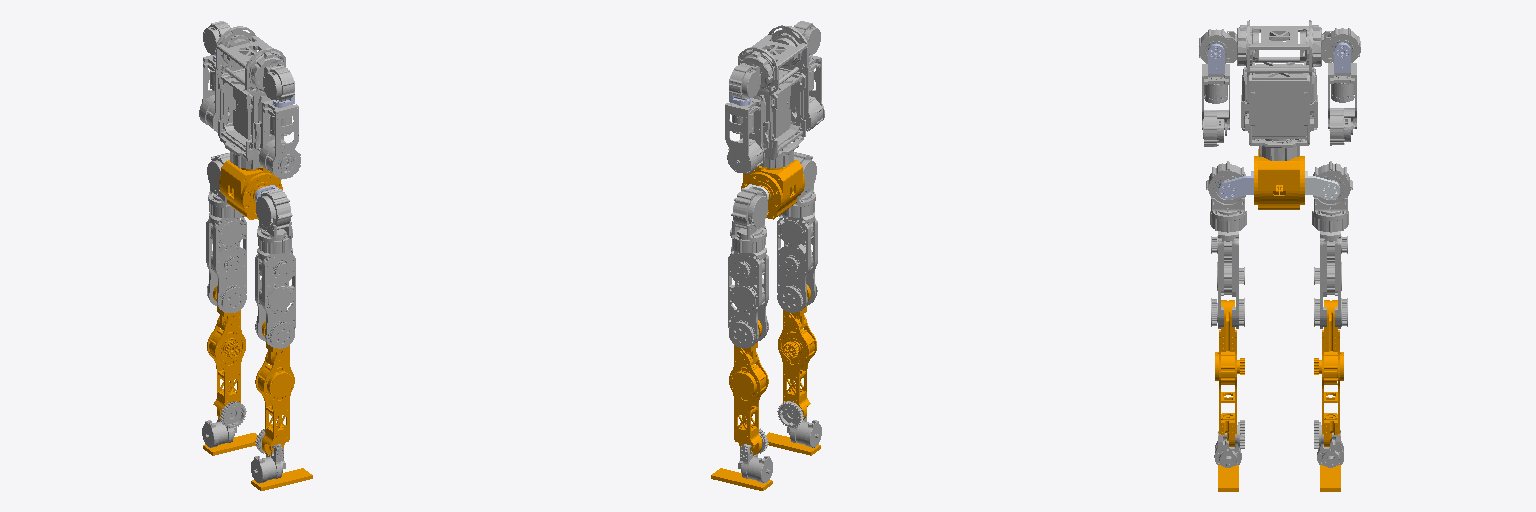
URDF robot description (E1_v2):
<?xml version="1.0" encoding="utf-8"?>
<robot name="E1_v2">

  <mujoco>
    <compiler meshdir="../meshes" discardvisual="false" />
  </mujoco>

<!--  <link name="world"></link>-->
<!--  <joint name="floating_base_joint" type="floating">-->
<!--    <parent link="world"/>-->
<!--    <child link="pelvis"/>-->
<!--  </joint>-->

  <link name="pelvis">
    <inertial>
      <origin xyz="0.0022609 0 0.071672" rpy="0 0 0" />
      <mass value="2.95" />
      <inertia ixx="0.00896434" ixy="0" ixz="0.00037558" iyy="0.00843088" iyz="0" izz="0.00739519" />
    </inertial>
    <visual>
      <origin xyz="0 0 0" rpy="0 0 0" />
      <geometry>
        <mesh filename="../meshes/pelvis.STL" />
      </geometry>
      <material name="">
        <color rgba="1 0.64706 0 1" />
      </material>
    </visual>
    <collision>
      <origin xyz="0 0 0.07" rpy="0 0 0" />
      <geometry>
        <!-- <mesh filename="../meshes/pelvis.STL" /> -->
        <box size="0.1 0.1 0.1 "/>
      </geometry>
    </collision>
  </link>
  <link name="left_hip_pitch_link">
    <inertial>
      <origin xyz="0.02004396 0.03015264 -0.00422561" rpy="0 0 0" />
      <mass value="0.18" />
      <inertia ixx="0.00015596" ixy="0.00003517" ixz="-0.0000057" iyy="0.00006808" iyz="-0.00002343" izz="0.00015626" />
    </inertial>
    <visual>
      <origin xyz="0 0 0" rpy="0 0 0" />
      <geometry>
        <mesh filename="../meshes/left_hip_pitch_link.STL" />
      </geometry>
      <material name="">
        <color rgba="0.89804 0.91765 0.92941 1" />
      </material>
    </visual>
    <!-- <collision>
      <origin xyz="0 0 0" rpy="0 0 0" />
      <geometry>
        <mesh filename="../meshes/left_hip_pitch_link.STL" />
      </geometry>
    </collision> -->
  </link>
  <joint name="left_hip_pitch_joint" type="revolute">
    <origin xyz="0 0.057 0.065" rpy="0 0 0" />
    <parent link="pelvis" />
    <child link="left_hip_pitch_link" />
    <axis xyz="0 1 0" />
    <limit lower="-2.7053" upper="2.7053" effort="60" velocity="20.42" />
  </joint>
  <link name="left_hip_roll_link">
    <inertial>
      <origin xyz="-0.00068638 -0.00005009 -0.03577346" rpy="0 0 0" />
      <mass value="1.665" />
      <inertia ixx="0.00409304" ixy="-0.00000113" ixz="-0.0000446" iyy="0.00387205" iyz="0.00001303" izz="0.00178225" />
    </inertial>
    <visual>
      <origin xyz="0 0 0" rpy="0 0 0" />
      <geometry>
        <mesh filename="../meshes/left_hip_roll_link.STL" />
      </geometry>
      <material name="">
        <color rgba="0.75294 0.75294 0.75294 1" />
      </material>
    </visual>
<!--    <collision>-->
<!--      <origin xyz="0 0 0" rpy="0 0 0" />-->
<!--      <geometry>-->
<!--        <mesh filename="../meshes/left_hip_roll_link.STL" />-->
<!--      </geometry>-->
<!--    </collision>-->
  </link>
  <joint name="left_hip_roll_joint" type="revolute">
    <origin xyz="0 0.065 -0.013057" rpy="0 0 0" />
    <parent link="left_hip_pitch_link" />
    <child link="left_hip_roll_link" />
    <axis xyz="1 0 0" />
    <limit lower="-0.5236" upper="3.1416" effort="60" velocity="20.42" />
  </joint>
  <link name="left_hip_yaw_link">
    <inertial>
      <origin xyz="0.00068457 -0.00007417 -0.12329502" rpy="0 0 0" />
      <mass value="2.055" />
      <inertia ixx="0.01379746" ixy="0.00000133" ixz="-0.00026842" iyy="0.01417279" iyz="0.00017674" izz="0.00233401" />
    </inertial>
    <visual>
      <origin xyz="0 0 0" rpy="0 0 0" />
      <geometry>
        <mesh filename="../meshes/left_hip_yaw_link.STL" />
      </geometry>
      <material name="">
        <color rgba="0.75294 0.75294 0.75294 1" />
      </material>
    </visual>
<!--    <collision>-->
<!--      <origin xyz="0 0 0" rpy="0 0 0" />-->
<!--      <geometry>-->
<!--        <mesh filename="../meshes/left_hip_yaw_link.STL" />-->
<!--      </geometry>-->
<!--    </collision>-->
  </link>
  <joint name="left_hip_yaw_joint" type="revolute">
    <origin xyz="0 0 -0.106" rpy="0 0 0" />
    <parent link="left_hip_roll_link" />
    <child link="left_hip_yaw_link" />
    <axis xyz="0 0 1" />
    <limit lower="-2.0944" upper="2.0944" effort="36" velocity="18.85" />
  </joint>
  <link name="left_knee_link">
    <inertial>
      <origin xyz="0.00371192 -0.00097881 -0.15642903" rpy="0 0 0" />
      <mass value="1.4" />
      <inertia ixx="0.01519613" ixy="0.00000263" ixz="0.00009311" iyy="0.01535099" iyz="0.00011171" izz="0.00083369" />
    </inertial>
    <visual>
      <origin xyz="0 0 0" rpy="0 0 0" />
      <geometry>
        <mesh filename="../meshes/left_knee_link.STL" />
      </geometry>
      <material name="">
        <color rgba="1 0.64706 0 1" />
      </material>
    </visual>
    <collision>
      <origin xyz="0 0 -0.16" rpy="0 0 0" />
      <geometry>
<!--        <mesh filename="../meshes/left_knee_link.STL" />-->
        <box size="0.03 0.03 0.26" />
      </geometry>
    </collision>
  </link>
  <joint name="left_knee_joint" type="revolute">
    <origin xyz="0 0 -0.228" rpy="0 0 0" />
    <parent link="left_hip_yaw_link" />
    <child link="left_knee_link" />
    <axis xyz="0 1 0" />
    <limit lower="0" upper="2.2689" effort="59.3" velocity="30.65" />
  </joint>
  <link name="left_ankle_pitch_link">
    <inertial>
      <origin xyz="-0.01090955 -0.00574639 -0.03708665" rpy="0 0 0" />
      <mass value="0.785" />
      <inertia ixx="0.00102458" ixy="-0.0000515" ixz="0.00018967" iyy="0.00111065" iyz="-0.00018149" izz="0.00065549" />
    </inertial>
    <visual>
      <origin xyz="0 0 0" rpy="0 0 0" />
      <geometry>
        <mesh filename="../meshes/left_ankle_pitch_link.STL" />
      </geometry>
      <material name="">
        <color rgba="0.75294 0.75294 0.75294 1" />
      </material>
    </visual>
<!--    <collision>-->
<!--      <origin xyz="0 0 0" rpy="0 0 0" />-->
<!--      <geometry>-->
<!--        <mesh filename="../meshes/left_ankle_pitch_link.STL" />-->
<!--      </geometry>-->
<!--    </collision>-->
  </link>
  <joint name="left_ankle_pitch_joint" type="revolute">
    <origin xyz="0 0 -0.32" rpy="0 0 0" />
    <parent link="left_knee_link" />
    <child link="left_ankle_pitch_link" />
    <axis xyz="0 1 0" />
    <limit lower="-0.5236" upper="0.5236" effort="59.3" velocity="30.65" />
  </joint>
  <link name="left_ankle_roll_link">
    <inertial>
      <origin xyz="0.01234943 -0.00006993 -0.03206542" rpy="0 0 0" />
      <mass value="0.275" />
      <inertia ixx="0.00012855" ixy="0.00000142" ixz="-0.00001592" iyy="0.00071645" iyz="-0.00000025" izz="0.00079232" />
    </inertial>
    <visual>
      <origin xyz="0.02 0 -0.04" rpy="0 0 0" />
      <geometry>
<!--        <mesh filename="../meshes/left_ankle_roll_link.STL" />-->
        <box size="0.15 0.05 0.01" />
      </geometry>
      <material name="">
        <color rgba="1 0.64706 0 1" />
      </material>
    </visual>
    <collision>
      <origin xyz="0.02 0 -0.04" rpy="0 0 0" />
      <geometry>
        <box size="0.15 0.05 0.01" />
      </geometry>
    </collision>
    <collision>
      <origin xyz=" 0.107 0.035 -0.045" rpy="0 0 0"/>
      <geometry>
        <sphere radius="0.005"/>
      </geometry>
    </collision>
    <collision>
      <origin xyz="0.107 -0.035 -0.045" rpy="0 0 0"/>
      <geometry>
        <sphere radius="0.005"/>
      </geometry>
    </collision>
    <collision>
      <origin xyz="-0.073 0.035 -0.045" rpy="0 0 0"/>
      <geometry>
        <sphere radius="0.005"/>
      </geometry>
    </collision>
    <collision>
      <origin xyz="-0.073 -0.035 -0.045" rpy="0 0 0"/>
      <geometry>
        <sphere radius="0.005"/>
      </geometry>
    </collision>
<!--    <collision>-->
<!--      <origin xyz="0 0 0" rpy="0 0 0" />-->
<!--      <geometry>-->
<!--        <mesh filename="../meshes/left_ankle_roll_link.STL" />-->
<!--      </geometry>-->
<!--    </collision>-->
  </link>
  <joint name="left_ankle_roll_joint" type="revolute">
    <origin xyz="0 0 -0.06" rpy="0 0 0" />
    <parent link="left_ankle_pitch_link" />
    <child link="left_ankle_roll_link" />
    <axis xyz="1 0 0" />
    <limit lower="-1.5708" upper="1.5708" effort="14" velocity="32.99" />
  </joint>
  <link name="right_hip_pitch_link">
    <inertial>
      <origin xyz="0.02004396 -0.03015264 -0.00422561" rpy="0 0 0" />
      <mass value="0.18" />
      <inertia ixx="0.00015596" ixy="-0.00003517" ixz="-0.0000057" iyy="0.00006808" iyz="0.00002343" izz="0.00015626" />
    </inertial>
    <visual>
      <origin xyz="0 0 0" rpy="0 0 0" />
      <geometry>
        <mesh filename="../meshes/right_hip_pitch_link.STL" />
      </geometry>
      <material name="">
        <color rgba="0.79216 0.81961 0.93333 1" />
      </material>
    </visual>
    <!-- <collision>
      <origin xyz="0 0 0" rpy="0 0 0" />
      <geometry>
        <mesh filename="../meshes/right_hip_pitch_link.STL" />
      </geometry>
    </collision> -->
  </link>
  <joint name="right_hip_pitch_joint" type="revolute">
    <origin xyz="0 -0.057 0.065" rpy="0 0 0" />
    <parent link="pelvis" />
    <child link="right_hip_pitch_link" />
    <axis xyz="0 1 0" />
    <limit lower="-2.7053" upper="2.7053" effort="60" velocity="20.42" />
  </joint>
  <link name="right_hip_roll_link">
    <inertial>
      <origin xyz="-0.00068634 0.0000501 -0.03577353" rpy="0 0 0" />
      <mass value="1.665" />
      <inertia ixx="0.00409303" ixy="-0.00000113" ixz="-0.00004459" iyy="0.00387204" iyz="-0.00001303" izz="0.00178225" />
    </inertial>
    <visual>
      <origin xyz="0 0 0" rpy="0 0 0" />
      <geometry>
        <mesh filename="../meshes/right_hip_roll_link.STL" />
      </geometry>
      <material name="">
        <color rgba="0.75294 0.75294 0.75294 1" />
      </material>
    </visual>
<!--    <collision>-->
<!--      <origin xyz="0 0 0" rpy="0 0 0" />-->
<!--      <geometry>-->
<!--        <mesh filename="../meshes/right_hip_roll_link.STL" />-->
<!--      </geometry>-->
<!--    </collision>-->
  </link>
  <joint name="right_hip_roll_joint" type="revolute">
    <origin xyz="0 -0.065 -0.013057" rpy="0 0 0" />
    <parent link="right_hip_pitch_link" />
    <child link="right_hip_roll_link" />
    <axis xyz="1 0 0" />
    <limit lower="-3.1416" upper="0.5236" effort="60" velocity="20.42" />
  </joint>
  <link name="right_hip_yaw_link">
    <inertial>
      <origin xyz="0.00068454 0.00007420 -0.12329501" rpy="0 0 0" />
      <mass value="2.0055" />
      <inertia ixx="0.01379746" ixy="-0.00000133" ixz="-0.00026843" iyy="0.01417279" iyz="-0.00017674" izz="0.00233401" />
    </inertial>
    <visual>
      <origin xyz="0 0 0" rpy="0 0 0" />
      <geometry>
        <mesh filename="../meshes/right_hip_yaw_link.STL" />
      </geometry>
      <material name="">
        <color rgba="0.75294 0.75294 0.75294 1" />
      </material>
    </visual>
<!--    <collision>-->
<!--      <origin xyz="0 0 0" rpy="0 0 0" />-->
<!--      <geometry>-->
<!--        <mesh filename="../meshes/right_hip_yaw_link.STL" />-->
<!--      </geometry>-->
<!--    </collision>-->
  </link>
  <joint name="right_hip_yaw_joint" type="revolute">
    <origin xyz="0 0 -0.106" rpy="0 0 0" />
    <parent link="right_hip_roll_link" />
    <child link="right_hip_yaw_link" />
    <axis xyz="0 0 1" />
    <limit lower="-2.0944" upper="2.0944" effort="36" velocity="18.85" />
  </joint>
  <link name="right_knee_link">
    <inertial>
      <origin xyz="0.00371191 0.0009788 -0.15642891" rpy="0 0 0" />
      <mass value="1.4" />
      <inertia ixx="0.01519613" ixy="-0.00000263" ixz="0.0000931" iyy="0.01535099" iyz="-0.00011171" izz="0.00083369" />
    </inertial>
    <visual>
      <origin xyz="0 0 0" rpy="0 0 0" />
      <geometry>
        <mesh filename="../meshes/right_knee_link.STL" />
      </geometry>
      <material name="">
        <color rgba="1 0.64706 0 1" />
      </material>
    </visual>
    <collision>
      <origin xyz="0 0 -0.16" rpy="0 0 0" />
      <geometry>
<!--        <mesh filename="../meshes/right_knee_link.STL" />-->
        <box size="0.03 0.03 0.26" />
      </geometry>
    </collision>
  </link>
  <joint name="right_knee_joint" type="revolute">
    <origin xyz="0 0 -0.228" rpy="0 0 0" />
    <parent link="right_hip_yaw_link" />
    <child link="right_knee_link" />
    <axis xyz="0 1 0" />
    <limit lower="0" upper="2.2689" effort="59.3" velocity="30.65" />
  </joint>
  <link name="right_ankle_pitch_link">
    <inertial>
      <origin xyz="-0.01090955 0.00574639 -0.03708666" rpy="0 0 0" />
      <mass value="0.785" />
      <inertia ixx="0.00102458" ixy="0.0000515" ixz="0.00018967" iyy="0.00111065" iyz="0.00018149" izz="0.00065549" />
    </inertial>
    <visual>
      <origin xyz="0 0 0" rpy="0 0 0" />
      <geometry>
        <mesh filename="../meshes/right_ankle_pitch_link.STL" />
      </geometry>
      <material name="">
        <color rgba="0.75294 0.75294 0.75294 1" />
      </material>
    </visual>
<!--    <collision>-->
<!--      <origin xyz="0 0 0" rpy="0 0 0" />-->
<!--      <geometry>-->
<!--        <mesh filename="../meshes/right_ankle_pitch_link.STL" />-->
<!--      </geometry>-->
<!--    </collision>-->
  </link>
  <joint name="right_ankle_pitch_joint" type="revolute">
    <origin xyz="0 0 -0.32" rpy="0 0 0" />
    <parent link="right_knee_link" />
    <child link="right_ankle_pitch_link" />
    <axis xyz="0 1 0" />
    <limit lower="-0.5236" upper="0.5236" effort="59.3" velocity="30.65" />
  </joint>
  <link name="right_ankle_roll_link">
    <inertial>
      <origin xyz="0.01234943 0.00006993 -0.03206542" rpy="0 0 0" />
      <mass value="0.275" />
      <inertia ixx="0.00012855" ixy="-0.00000142" ixz="-0.00001592" iyy="0.00071645" iyz="0.00000025" izz="0.00079232" />
    </inertial>
    <visual>
      <origin xyz="0.02 0 -0.04" rpy="0 0 0" />
      <geometry>
<!--        <mesh filename="../meshes/right_ankle_roll_link.STL" />-->
        <box size="0.15 0.05 0.01" />
      </geometry>
      <material name="">
        <color rgba="1 0.64706 0 1" />
      </material>
    </visual>
    <collision>
      <origin xyz="0.02 0 -0.04" rpy="0 0 0" />
      <geometry>
        <box size="0.15 0.05 0.01" />
      </geometry>
    </collision>
    <collision>
      <origin xyz=" 0.107 0.035 -0.045" rpy="0 0 0"/>
      <geometry>
        <sphere radius="0.005"/>
      </geometry>
    </collision>
    <collision>
      <origin xyz="0.107 -0.035 -0.045" rpy="0 0 0"/>
      <geometry>
        <sphere radius="0.005"/>
      </geometry>
    </collision>
    <collision>
      <origin xyz="-0.073 0.035 -0.045" rpy="0 0 0"/>
      <geometry>
        <sphere radius="0.005"/>
      </geometry>
    </collision>
    <collision>
      <origin xyz="-0.073 -0.035 -0.045" rpy="0 0 0"/>
      <geometry>
        <sphere radius="0.005"/>
      </geometry>
    </collision>
<!--    <collision>-->
<!--      <origin xyz="0 0 0" rpy="0 0 0" />-->
<!--      <geometry>-->
<!--        <mesh filename="../meshes/right_ankle_roll_link.STL" />-->
<!--      </geometry>-->
<!--    </collision>-->
  </link>
  <joint name="right_ankle_roll_joint" type="revolute">
    <origin xyz="0 0 -0.06" rpy="0 0 0" />
    <parent link="right_ankle_pitch_link" />
    <child link="right_ankle_roll_link" />
    <axis xyz="1 0 0" />
    <limit lower="-1.5708" upper="1.5708" effort="14" velocity="32.99" />
  </joint>
  <link name="torso_link">
    <inertial>
      <origin xyz="0.00998693 -0.00042796 0.15564752" rpy="0 0 0" />
      <mass value="7" />
      <inertia ixx="0.05955861" ixy="0.00003178" ixz="-0.00097234" iyy="0.04525784" iyz="0.00009215" izz="0.02377237" />
    </inertial>
    <visual>
      <origin xyz="0 0 0" rpy="0 0 0" />
      <geometry>
        <mesh filename="../meshes/torso_link.STL" />
      </geometry>
      <material name="">
        <color rgba="0.75294 0.75294 0.75294 1" />
      </material>
    </visual>
    <!-- <collision>
      <origin xyz="0 0 0" rpy="0 0 0" />
      <geometry>
        <mesh filename="../meshes/torso_link.STL" />
      </geometry>
    </collision> -->
    <collision>
      <origin xyz="0 0 0.17" rpy="0 0 0"/>
      <geometry>
          <box size="0.11 0.15 0.26"/>
      </geometry>
    </collision>
  </link>
  <joint name="waist_yaw_joint" type="revolute">
    <origin xyz="0 0 0.135" rpy="0 0 0" />
    <parent link="pelvis" />
    <child link="torso_link" />
    <axis xyz="0 0 1" />
    <limit lower="-1.5708" upper="1.5708" effort="60" velocity="18.85" />
  </joint>
  <link name="left_shoulder_pitch_link">
    <inertial>
      <origin xyz="-0.0029314 0.04198695 -0.00000295" rpy="0 0 0" />
      <mass value="0.7" />
      <inertia ixx="0.00083238" ixy="-0.00001852" ixz="0.00000001" iyy="0.00050157" iyz="-0.00000005" izz="0.00069977" />
    </inertial>
    <visual>
      <origin xyz="0 0 0" rpy="0 0 0" />
      <geometry>
        <mesh filename="../meshes/left_shoulder_pitch_link.STL" />
      </geometry>
      <material name="">
        <color rgba="0.75294 0.75294 0.75294 1" />
      </material>
    </visual>
<!--    <collision>-->
<!--      <origin xyz="0 0 0" rpy="0 0 0" />-->
<!--      <geometry>-->
<!--        <mesh filename="../meshes/left_shoulder_pitch_link.STL" />-->
<!--      </geometry>-->
<!--    </collision>-->
  </link>
  <joint name="left_shoulder_pitch_joint" type="revolute">
    <origin xyz="0 0.0985 0.28" rpy="0 0 0" />
    <parent link="torso_link" />
    <child link="left_shoulder_pitch_link" />
    <axis xyz="0 1 0" />
    <limit lower="-1.0472" upper="2.7925" effort="36" velocity="18.85" />
  </joint>
  <link name="left_shoulder_roll_link">
    <inertial>
      <origin xyz="0.01778196 0 -0.02897233" rpy="0 0 0" />
      <mass value="0.15" />
      <inertia ixx="0.00009446" ixy="0" ixz="0.0000186" iyy="0.00009367" iyz="0" izz="0.00004103" />
    </inertial>
    <visual>
      <origin xyz="0 0 0" rpy="0 0 0" />
      <geometry>
        <mesh filename="../meshes/left_shoulder_roll_link.STL" />
      </geometry>
      <material name="">
        <color rgba="0.79216 0.81961 0.93333 1" />
      </material>
    </visual>
<!--    <collision>-->
<!--      <origin xyz="0 0 0" rpy="0 0 0" />-->
<!--      <geometry>-->
<!--        <mesh filename="../meshes/left_shoulder_roll_link.STL" />-->
<!--      </geometry>-->
<!--    </collision>-->
  </link>
  <joint name="left_shoulder_roll_joint" type="revolute">
    <origin xyz="0 0.052 0" rpy="0 0 0" />
    <parent link="left_shoulder_pitch_link" />
    <child link="left_shoulder_roll_link" />
    <axis xyz="1 0 0" />
    <limit lower="-0.1745" upper="2.9671" effort="36" velocity="18.85" />
  </joint>
  <link name="left_shoulder_yaw_link">
    <inertial>
      <origin xyz="-0.00319289 -0.000094 -0.08859524" rpy="0 0 0" />
      <mass value="1.4" />
      <inertia ixx="0.00576935" ixy="-0.00005705" ixz="0.00024192" iyy="0.00571289" iyz="0.00007066" izz="0.00129506" />
    </inertial>
    <visual>
      <origin xyz="0 0 0" rpy="0 0 0" />
      <geometry>
        <mesh filename="../meshes/left_shoulder_yaw_link.STL" />
      </geometry>
      <material name="">
        <color rgba="0.75294 0.75294 0.75294 1" />
      </material>
    </visual>
<!--    <collision>-->
<!--      <origin xyz="0 0 0" rpy="0 0 0" />-->
<!--      <geometry>-->
<!--        <mesh filename="../meshes/left_shoulder_yaw_link.STL" />-->
<!--      </geometry>-->
<!--    </collision>-->
  </link>
  <joint name="left_shoulder_yaw_joint" type="revolute">
    <origin xyz="0 0 -0.057" rpy="0 0 0" />
    <parent link="left_shoulder_roll_link" />
    <child link="left_shoulder_yaw_link" />
    <axis xyz="0 0 1" />
    <limit lower="-2.618" upper="2.618" effort="14" velocity="32.99" />
  </joint>

  <link name="right_shoulder_pitch_link">
    <inertial>
      <origin xyz="-0.0029314 -0.04229409 -0.00218097" rpy="0 0 0" />
      <mass value="0.7" />
      <inertia ixx="0.00083756" ixy="0.00002175" ixz="0.0000013" iyy="0.00050253" iyz="0.00001501" izz="0.00070399" />
    </inertial>
    <visual>
      <origin xyz="0 0 0" rpy="0 0 0" />
      <geometry>
        <mesh filename="../meshes/right_shoulder_pitch_link.STL" />
      </geometry>
      <material name="">
        <color rgba="0.75294 0.75294 0.75294 1" />
      </material>
    </visual>
<!--    <collision>-->
<!--      <origin xyz="0 0 0" rpy="0 0 0" />-->
<!--      <geometry>-->
<!--        <mesh filename="../meshes/right_shoulder_pitch_link.STL" />-->
<!--      </geometry>-->
<!--    </collision>-->
  </link>
  <joint name="right_shoulder_pitch_joint" type="revolute">
    <origin xyz="0 -0.0985 0.28" rpy="0 0 0" />
    <parent link="torso_link" />
    <child link="right_shoulder_pitch_link" />
    <axis xyz="0 1 0" />
    <limit lower="-1.0472" upper="2.7925" effort="36" velocity="18.85" />
  </joint>
  <link name="right_shoulder_roll_link">
    <inertial>
      <origin xyz="0.01778196 0 -0.02897233" rpy="0 0 0" />
      <mass value="0.15" />
      <inertia ixx="0.00009446" ixy="0" ixz="0.0000186" iyy="0.00009367" iyz="0" izz="0.00004103" />
    </inertial>
    <visual>
      <origin xyz="0 0 0" rpy="0 0 0" />
      <geometry>
        <mesh filename="../meshes/right_shoulder_roll_link.STL" />
      </geometry>
      <material name="">
        <color rgba="0.79216 0.81961 0.93333 1" />
      </material>
    </visual>
<!--    <collision>-->
<!--      <origin xyz="0 0 0" rpy="0 0 0" />-->
<!--      <geometry>-->
<!--        <mesh filename="../meshes/right_shoulder_roll_link.STL" />-->
<!--      </geometry>-->
<!--    </collision>-->
  </link>
  <joint name="right_shoulder_roll_joint" type="revolute">
    <origin xyz="0 -0.051904 -0.0028082" rpy="0 0 0" />
    <parent link="right_shoulder_pitch_link" />
    <child link="right_shoulder_roll_link" />
    <axis xyz="1 0 0" />
    <limit lower="-2.9671" upper="0.1745" effort="36" velocity="18.85" />
  </joint>
  <link name="right_shoulder_yaw_link">
    <inertial>
      <origin xyz="-0.00319289 -0.000094 -0.08859524" rpy="0 0 0" />
      <mass value="1.4" />
      <inertia ixx="0.00576935" ixy="0.00005705" ixz="-0.00024192" iyy="0.00571289" iyz="-0.00007066" izz="0.00129506" />
    </inertial>
    <visual>
      <origin xyz="0 0 0" rpy="0 0 0" />
      <geometry>
        <mesh filename="../meshes/right_shoulder_yaw_link.STL" />
      </geometry>
      <material name="">
        <color rgba="0.75294 0.75294 0.75294 1" />
      </material>
    </visual>
<!--    <collision>-->
<!--      <origin xyz="0 0 0" rpy="0 0 0" />-->
<!--      <geometry>-->
<!--        <mesh filename="../meshes/right_shoulder_yaw_link.STL" />-->
<!--      </geometry>-->
<!--    </collision>-->
  </link>
  <joint name="right_shoulder_yaw_joint" type="revolute">
    <origin xyz="0 0 -0.057" rpy="0 0 0" />
    <parent link="right_shoulder_roll_link" />
    <child link="right_shoulder_yaw_link" />
    <axis xyz="0 0 1" />
    <limit lower="-2.618" upper="2.618" effort="14" velocity="32.99" />
  </joint>

</robot>

--- Render facts (derived) ---
3 views of the same robot in one strip: view 1: azimuth 30°, elevation 25°; view 2: azimuth 150°, elevation 25°; view 3: azimuth 270°, elevation 25° (orthographic).
Model E1_v2 with 20 links and 19 joints (19 revolute), rooted at pelvis, posed every joint at zero.
Links seen in each view (by area): view 1: torso_link, right_hip_yaw_link, left_hip_yaw_link, right_knee_link, left_knee_link, right_shoulder_yaw_link, right_hip_roll_link, pelvis, left_ankle_pitch_link, left_shoulder_yaw_link, left_hip_roll_link, right_ankle_pitch_link (+3 smaller); view 2: torso_link, left_hip_yaw_link, right_hip_yaw_link, left_knee_link, right_knee_link, left_shoulder_yaw_link, left_hip_roll_link, pelvis, right_ankle_pitch_link, right_shoulder_yaw_link, right_hip_roll_link, left_ankle_pitch_link (+3 smaller); view 3: torso_link, pelvis, left_hip_yaw_link, right_hip_yaw_link, right_knee_link, left_knee_link, left_shoulder_yaw_link, left_hip_roll_link, right_hip_roll_link, right_shoulder_yaw_link, left_shoulder_pitch_link, right_ankle_pitch_link (+6 smaller).
Boxes of the visible links, x1,y1,x2,y2 form: torso_link: (215,26,285,169); right_hip_yaw_link: (255,248,295,348); left_hip_yaw_link: (206,213,246,312); right_knee_link: (255,321,294,455); left_knee_link: (207,284,245,419); right_shoulder_yaw_link: (259,100,300,179); right_hip_roll_link: (256,189,292,253); pelvis: (219,160,282,219); left_ankle_pitch_link: (202,401,246,447); left_shoulder_yaw_link: (199,55,222,132); left_hip_roll_link: (207,153,240,218); right_ankle_pitch_link: (251,429,285,483); torso_link: (738,25,808,168); left_hip_yaw_link: (728,247,768,348); right_hip_yaw_link: (777,212,817,312); left_knee_link: (729,320,768,455); right_knee_link: (778,284,816,419); left_shoulder_yaw_link: (725,98,764,174); left_hip_roll_link: (730,188,767,253); pelvis: (741,160,804,219); right_ankle_pitch_link: (777,401,821,447); right_shoulder_yaw_link: (801,55,824,131); right_hip_roll_link: (782,152,816,217); left_ankle_pitch_link: (738,428,772,483); torso_link: (1237,20,1321,160); pelvis: (1254,149,1304,209); left_hip_yaw_link: (1314,231,1347,328); right_hip_yaw_link: (1211,231,1244,328); right_knee_link: (1215,300,1244,446); left_knee_link: (1314,300,1343,446); left_shoulder_yaw_link: (1328,63,1356,145); left_hip_roll_link: (1312,161,1352,232); right_hip_roll_link: (1206,161,1246,232); right_shoulder_yaw_link: (1202,64,1229,146); left_shoulder_pitch_link: (1322,28,1360,62); right_ankle_pitch_link: (1214,420,1244,467).
Size in the robot's own frame: 0.156 by 0.3854 by 1.19 metres.
Meshes: 18 distinct files referenced, 18 mesh visuals loaded (18 binary STL).
